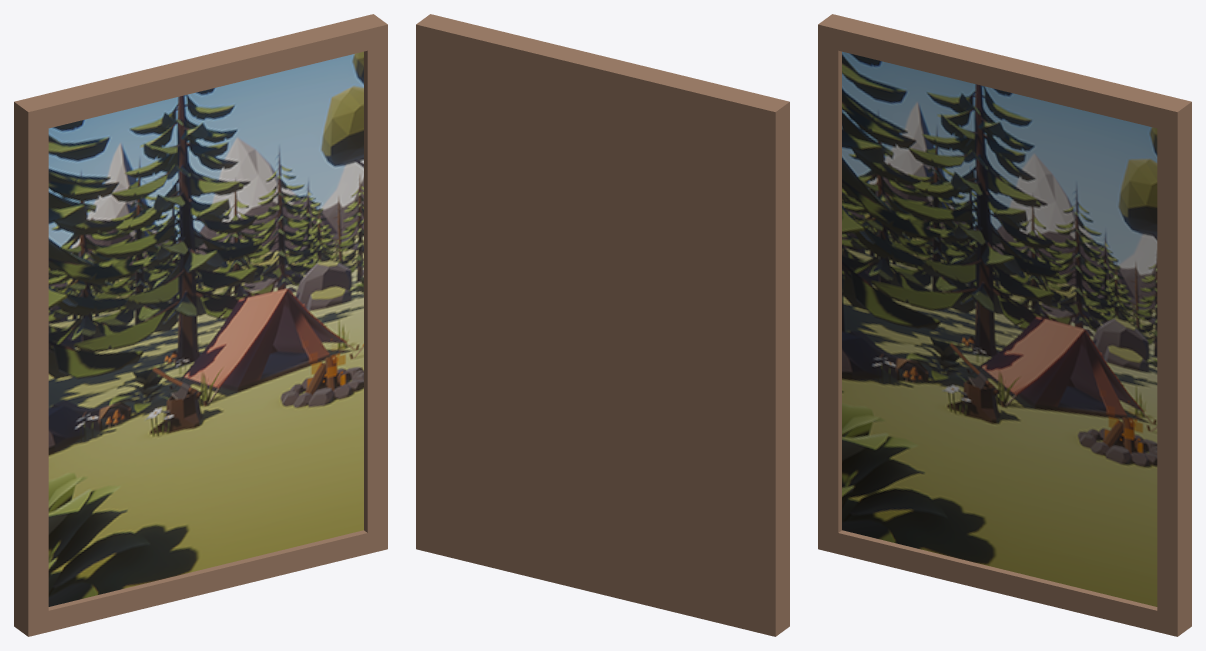
File: Painting_20.fbx
3 views of the same model, side by side, from view 1: azimuth 30°, elevation 25°; view 2: azimuth 150°, elevation 25°; view 3: azimuth 330°, elevation 25° (orthographic).
Parts seen in each view (by area): view 1: Painting_20; view 2: Painting_20; view 3: Painting_20.
Part boxes in pixels (left/top/right/bottom): Painting_20: left=14, top=14, right=387, bottom=636; Painting_20: left=416, top=14, right=789, bottom=636; Painting_20: left=818, top=14, right=1191, bottom=636.
Size of the model in its own units: 45.37 by 63.27 by 3.14.
